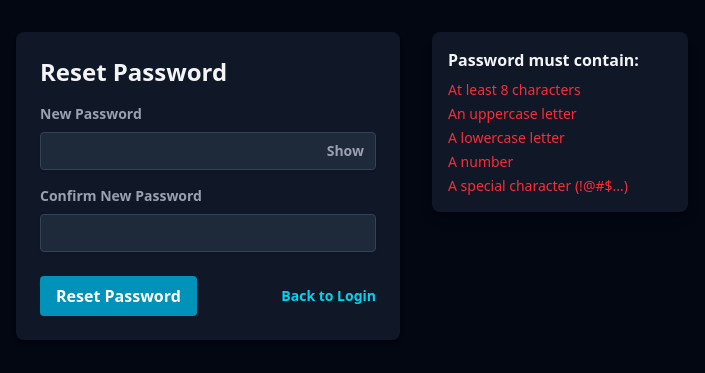
ResetPasswordForm › shows error if password is invalid
Check: the heading "Reset Password" is shown, box [40, 55, 227, 88]
Step 1. Type "weak" into the password field labelled "New Password" → [208, 151], box [40, 132, 376, 170]
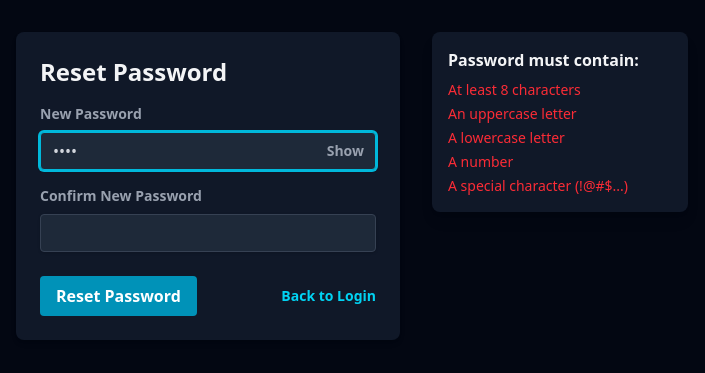
Step 2. Type "weak" into the password field labelled "Confirm New Password" → [208, 233], box [40, 214, 376, 252]
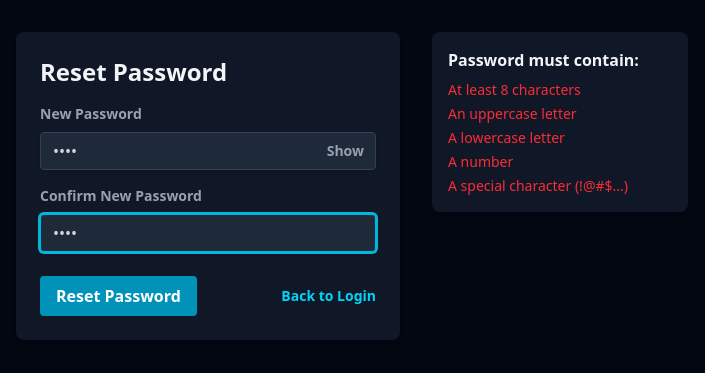
Step 3. Click the button "Reset Password" → [118, 296], box [40, 276, 197, 316]
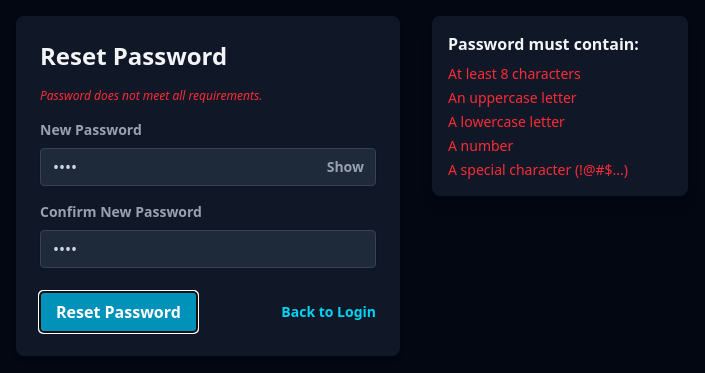
Check: the text "Password does not meet all requirements." is shown, box [40, 87, 262, 104]
